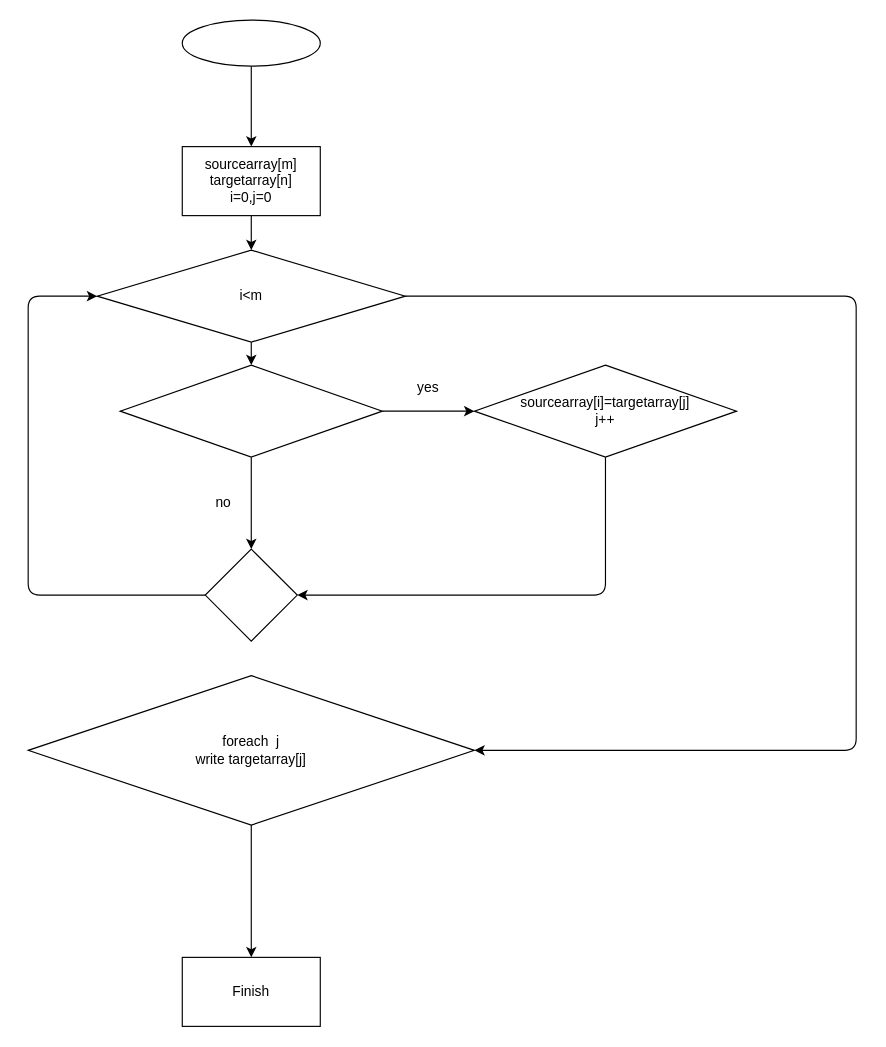
The diagram is 886 pixels wide and 1047 high, and some of its shapes have lost their labels. Here are the shapes that lost their labels. From the top down, the centre of each, then its label:
(x=250, y=42): Start
(x=250, y=410): sourcearray[i]>8
(x=250, y=594): i++
